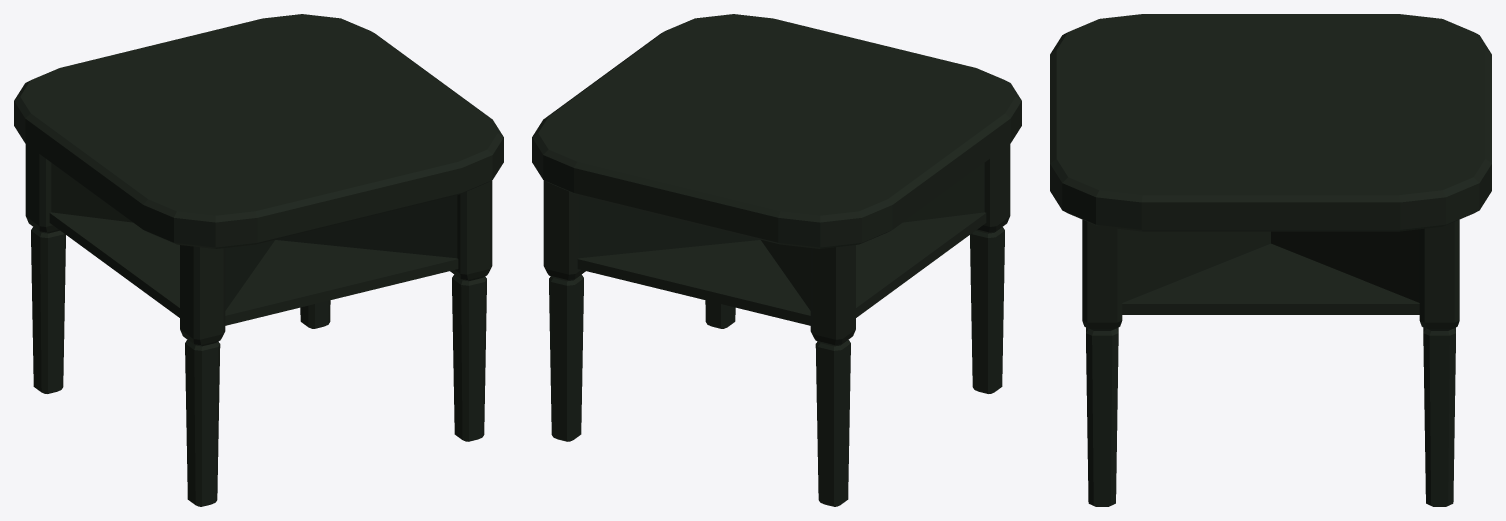
Rendered from playing_table.fbx.
3 views of the same model, side by side, from view 1: azimuth 30°, elevation 25°; view 2: azimuth 150°, elevation 25°; view 3: azimuth 270°, elevation 25° (orthographic). The views are drawn at different scales.
Parts seen in each view (by area): view 1: playing_table_lp; view 2: playing_table_lp; view 3: playing_table_lp.
Boxes of the visible parts, box(x1,y1,x2,y2) form: playing_table_lp: box(14, 14, 503, 506); playing_table_lp: box(532, 14, 1021, 506); playing_table_lp: box(1050, 14, 1491, 506).
Bounding box in the file's own units: 97.57 × 79.83 × 97.57.
